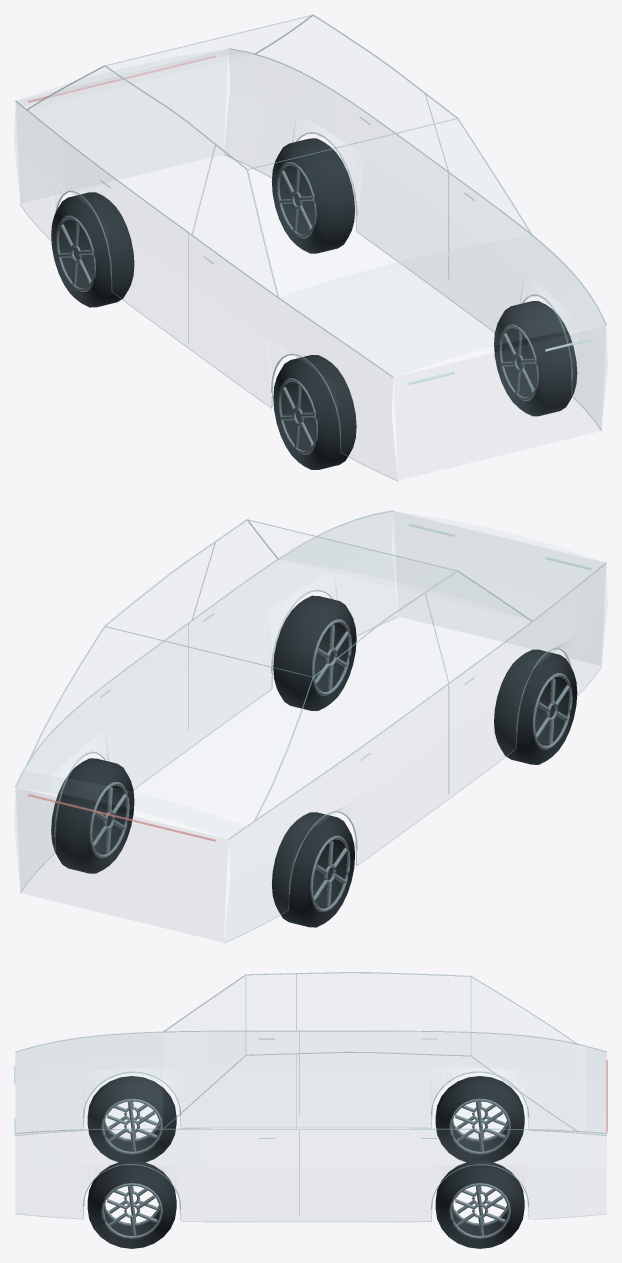
Rendered from kia_sportage.glb.
The picture shows the model from 3 angles, top to bottom: view 1: azimuth 30°, elevation 25°; view 2: azimuth 150°, elevation 25°; view 3: azimuth 270°, elevation 25°; orthographic projection. The views are drawn at different scales.
Parts seen in each view (by area): view 1: shell_body, shell_tyre_right_rear, shell_tyre_right_front, shell_tyre_left_rear, shell_tyre_left_front, shell_contours, shell_details, shell_rim_left_front, shell_rim_left_rear, shell_rim_right_front, shell_rim_right_rear; view 2: shell_body, shell_tyre_right_rear, shell_tyre_left_front, shell_tyre_left_rear, shell_tyre_right_front, shell_contours, shell_details, shell_rim_left_front, shell_rim_right_rear, shell_rim_right_front, shell_rim_left_rear; view 3: shell_body, shell_contours, shell_tyre_left_rear, shell_tyre_left_front, shell_tyre_right_rear, shell_tyre_right_front, shell_rim_right_rear, shell_rim_right_front, shell_rim_left_rear, shell_rim_left_front, shell_details.
Part boxes in pixels (x1,y1,x2,y2): shell_body: (16,49,605,440); shell_tyre_right_rear: (51,192,134,307); shell_tyre_right_front: (273,355,356,469); shell_tyre_left_rear: (271,138,354,253); shell_tyre_left_front: (494,301,577,416); shell_contours: (15,14,606,436); shell_details: (20,94,601,480); shell_rim_left_front: (498,324,538,400); shell_rim_left_rear: (276,162,316,238); shell_rim_right_front: (278,378,317,454); shell_rim_right_rear: (56,215,95,291); shell_body: (16,511,605,901); shell_tyre_right_rear: (271,812,354,927); shell_tyre_left_front: (273,595,356,710); shell_tyre_left_rear: (51,758,134,873); shell_tyre_right_front: (494,649,577,764); shell_contours: (15,510,606,894); shell_details: (20,542,601,943); shell_rim_left_front: (311,619,351,695); shell_rim_right_rear: (310,835,350,911); shell_rim_right_front: (532,673,572,749); shell_rim_left_rear: (89,782,129,858); shell_body: (15,1032,606,1165); shell_contours: (15,972,606,1209); shell_tyre_left_rear: (435,1160,524,1248); shell_tyre_left_front: (87,1160,176,1248); shell_tyre_right_rear: (435,1076,524,1162); shell_tyre_right_front: (87,1076,176,1162); shell_rim_right_rear: (449,1098,510,1154); shell_rim_right_front: (101,1098,162,1154); shell_rim_left_rear: (449,1183,510,1238); shell_rim_left_front: (101,1183,162,1238); shell_details: (16,974,606,1221).
Bounding box in the file's own units: 1.87 × 1.67 × 4.7.
